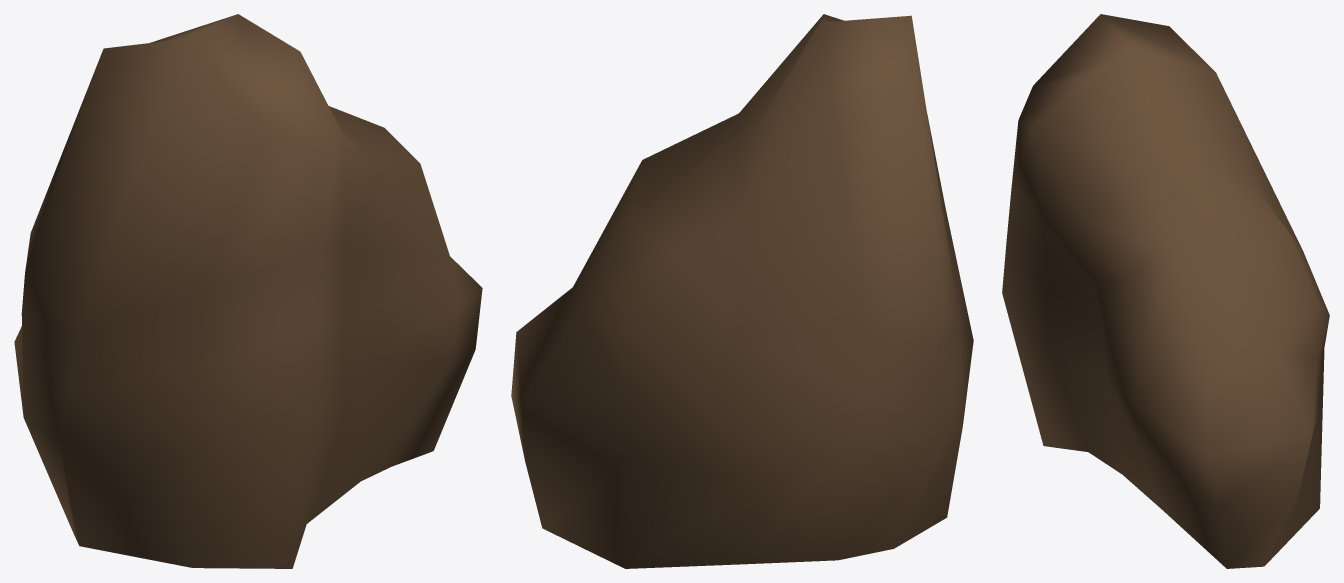
Rendered from shituo3.FBX.
3 renders of one model, left to right at view 1: azimuth 30°, elevation 25°; view 2: azimuth 150°, elevation 25°; view 3: azimuth 270°, elevation 25°, orthographic. The views are drawn at different scales.
Visible parts, largest first — view 1: 对象009; view 2: 对象009; view 3: 对象009.
Boxes of the visible parts, x1,y1,x2,y2 form: 对象009: [14, 14, 482, 568]; 对象009: [511, 14, 973, 568]; 对象009: [1002, 14, 1329, 568].
Bounding box in the file's own units: 3.49 × 4.03 × 2.73.
